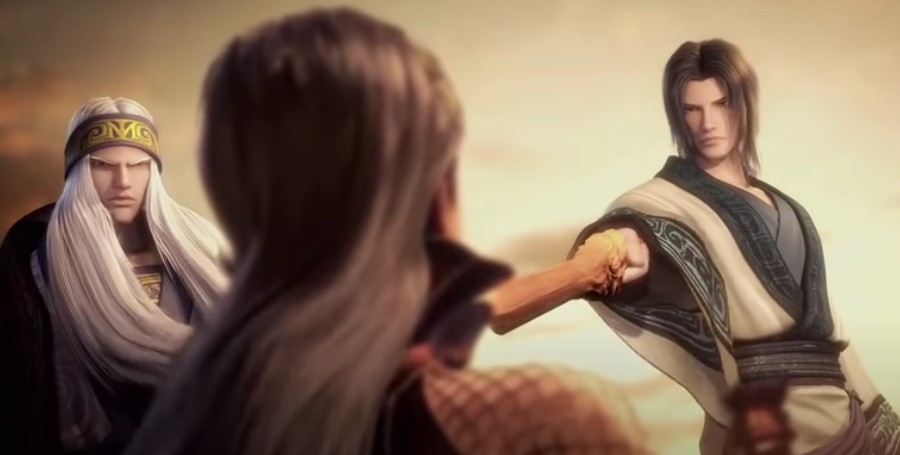person: (188, 6, 602, 454), (588, 37, 898, 450), (1, 93, 235, 449)
